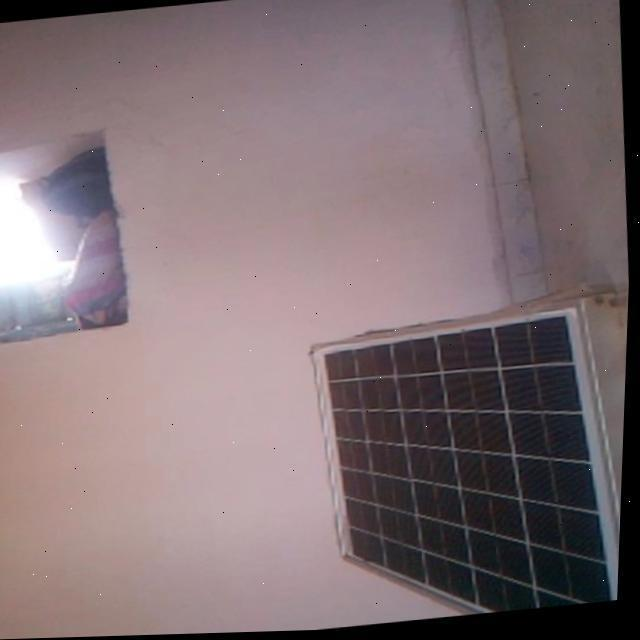Normal Solar Panel: (319, 314, 626, 630)
